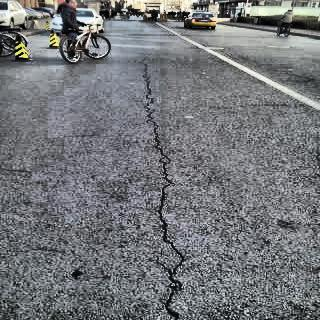crack: (137, 52, 193, 320)
